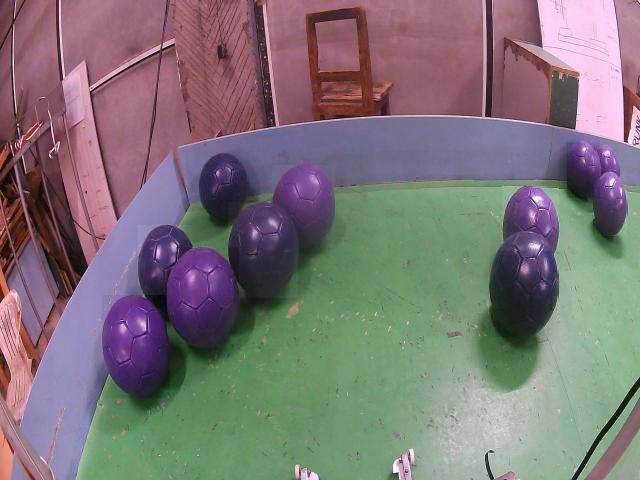jambhalya: (167, 247, 239, 348), (103, 295, 170, 398), (273, 165, 335, 248), (503, 186, 559, 251), (593, 171, 627, 236), (567, 142, 600, 198), (596, 145, 620, 176)
kaalyya: (490, 233, 558, 337), (228, 202, 298, 298), (138, 225, 192, 308), (200, 153, 248, 222)
